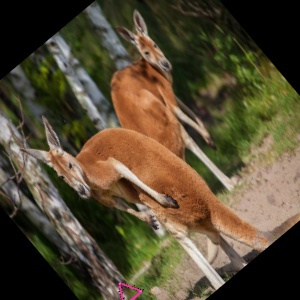triangle: (115, 279, 144, 300)
